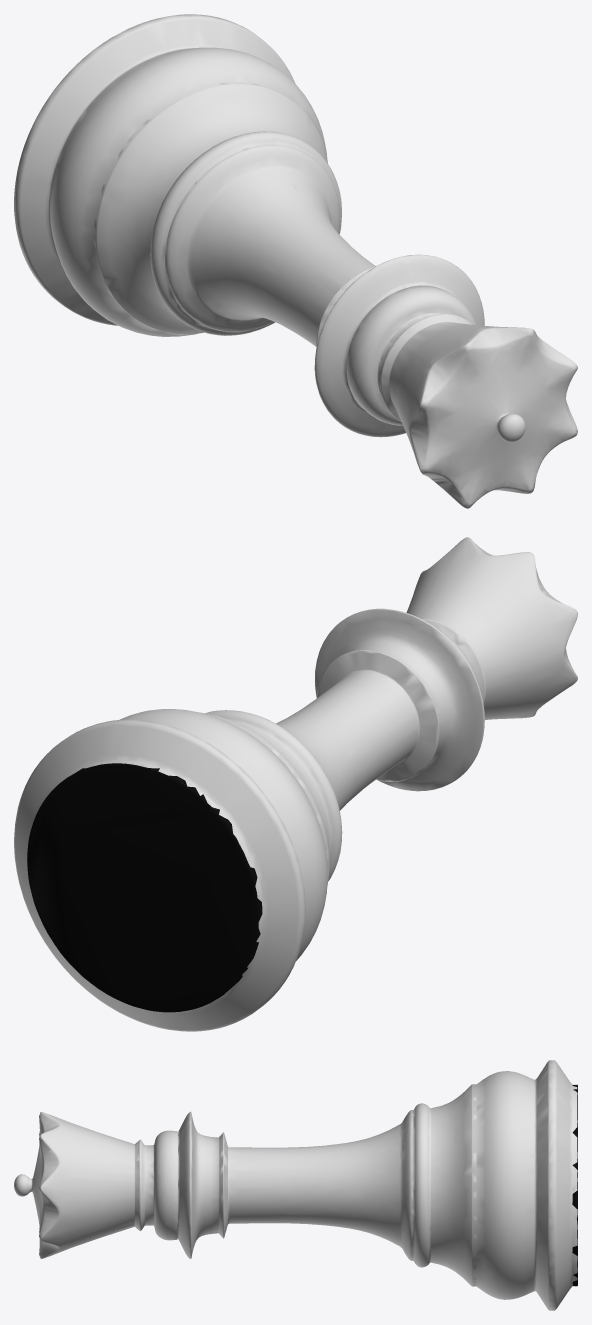
File: whiteQueen.obj
3 renders of one model, top to bottom at view 1: azimuth 30°, elevation 25°; view 2: azimuth 150°, elevation 25°; view 3: azimuth 270°, elevation 25°, orthographic. The views are drawn at different scales.
Parts seen in each view (by area): view 1: 12927_Wooden_Chess_Queen_side_A_v1_l3.001; view 2: 12927_Wooden_Chess_Queen_side_A_v1_l3.001; view 3: 12927_Wooden_Chess_Queen_side_A_v1_l3.001.
Boxes of the visible parts, x1=… form: 12927_Wooden_Chess_Queen_side_A_v1_l3.001: x1=14, y1=14, x2=577, y2=508; 12927_Wooden_Chess_Queen_side_A_v1_l3.001: x1=14, y1=537, x2=577, y2=1031; 12927_Wooden_Chess_Queen_side_A_v1_l3.001: x1=14, y1=1060, x2=577, y2=1310.
Bounding box in the file's own units: 0.902 × 0.9021 × 2.03.
